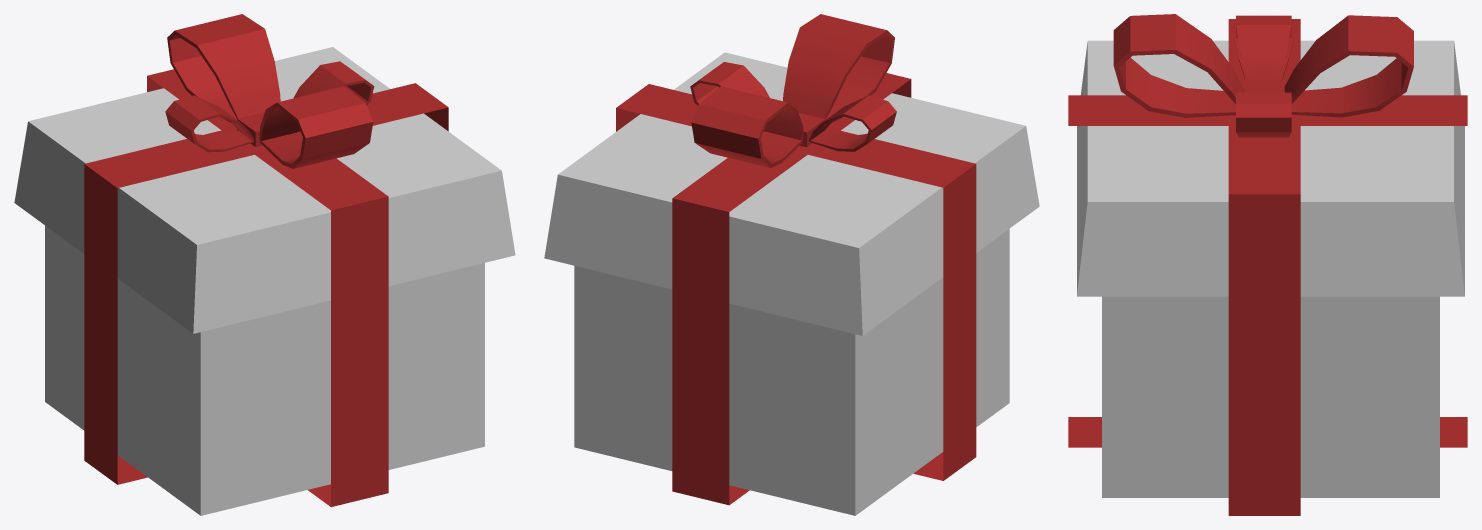
File: M_Gift_01.FBX
3 views of the same model, side by side, from view 1: azimuth 30°, elevation 25°; view 2: azimuth 150°, elevation 25°; view 3: azimuth 270°, elevation 25° (orthographic). The views are drawn at different scales.
Visible parts, largest first — view 1: Object009; view 2: Object009; view 3: Object009.
Part boxes in pixels (x1=…): Object009: x1=14, y1=14, x2=515, y2=515; Object009: x1=544, y1=14, x2=1039, y2=515; Object009: x1=1068, y1=14, x2=1467, y2=515.
Bounding box in the file's own units: 51.81 × 55.24 × 49.87.
